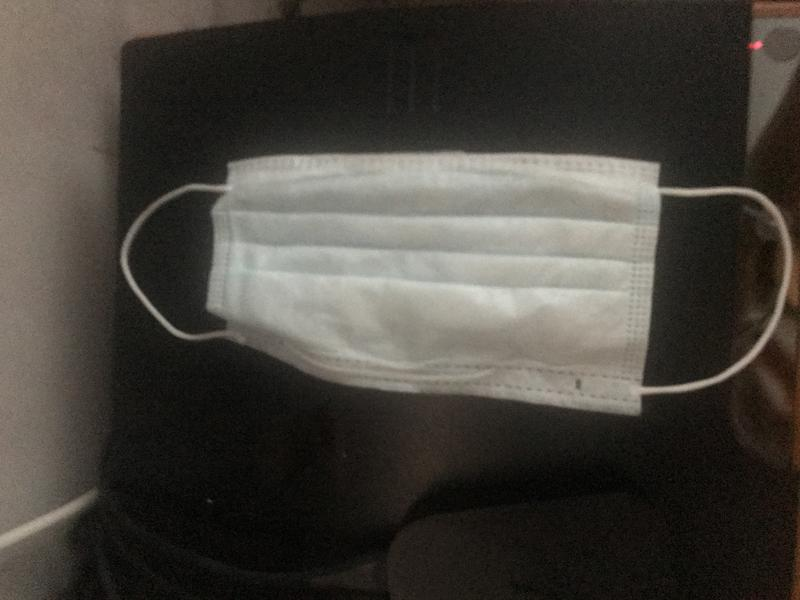medical_mask: (122, 157, 791, 416)
